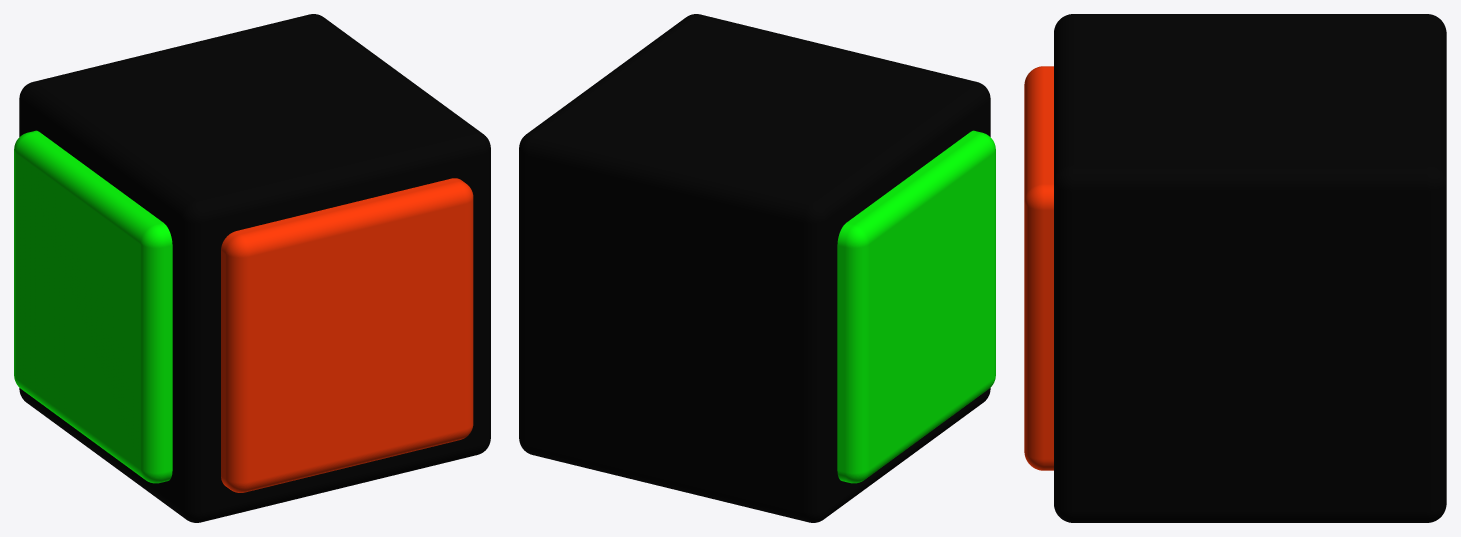
Rendered from cubinho(1, 0, 1).obj.
The picture shows the model from 3 angles, left to right: view 1: azimuth 30°, elevation 25°; view 2: azimuth 150°, elevation 25°; view 3: azimuth 270°, elevation 25°; orthographic projection. The views are drawn at different scales.
Parts seen in each view (by area): view 1: (1,_0,_1); view 2: (1,_0,_1); view 3: (1,_0,_1).
Boxes of the visible parts, <box> form: (1,_0,_1): <box>14,14,490,522</box>; (1,_0,_1): <box>519,14,995,522</box>; (1,_0,_1): <box>1024,14,1446,522</box>.
Bounding box in the file's own units: 2.15 × 2 × 2.15.
